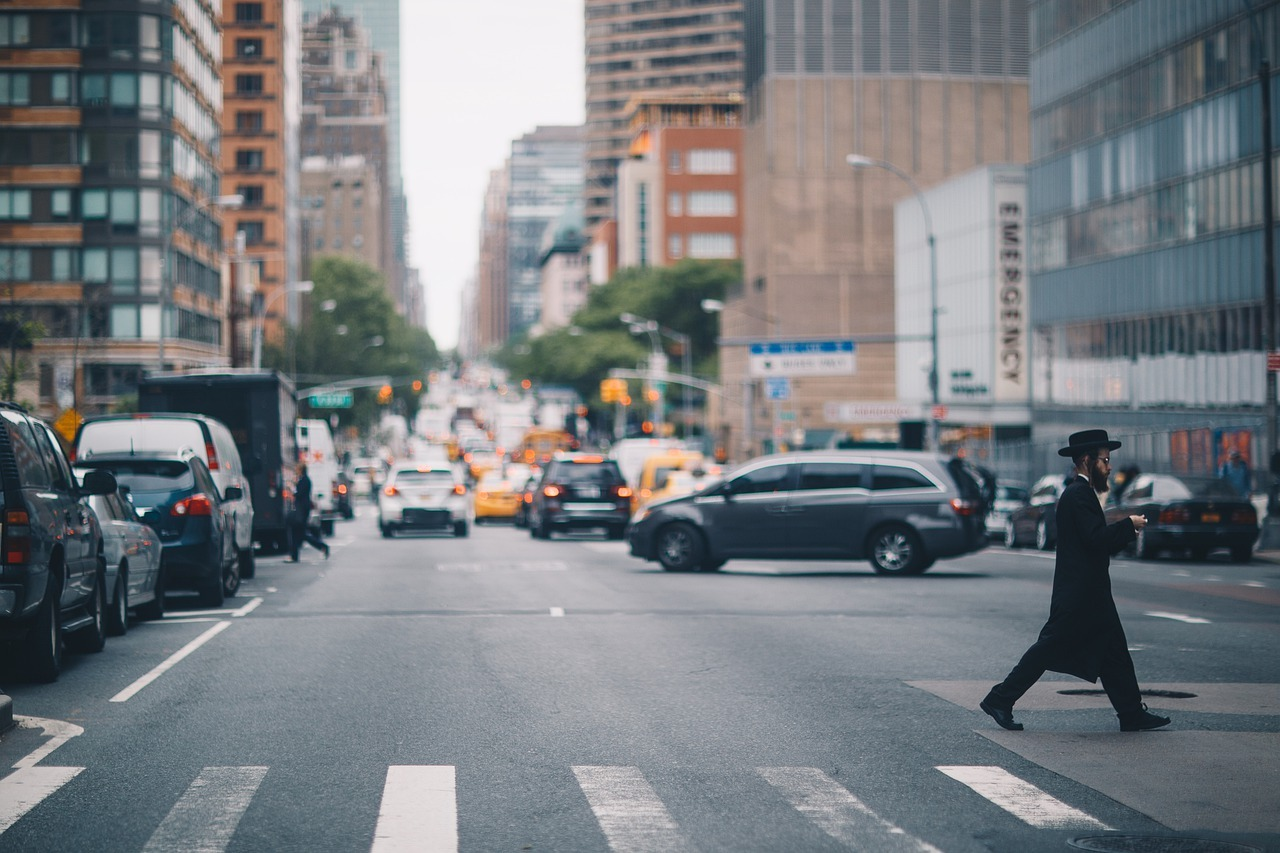car: (0, 374, 295, 677), (627, 450, 985, 575), (1106, 475, 1257, 561), (527, 454, 631, 538), (377, 463, 471, 537)
crosswalk: (1, 752, 1280, 853)
person: (980, 430, 1169, 731)
